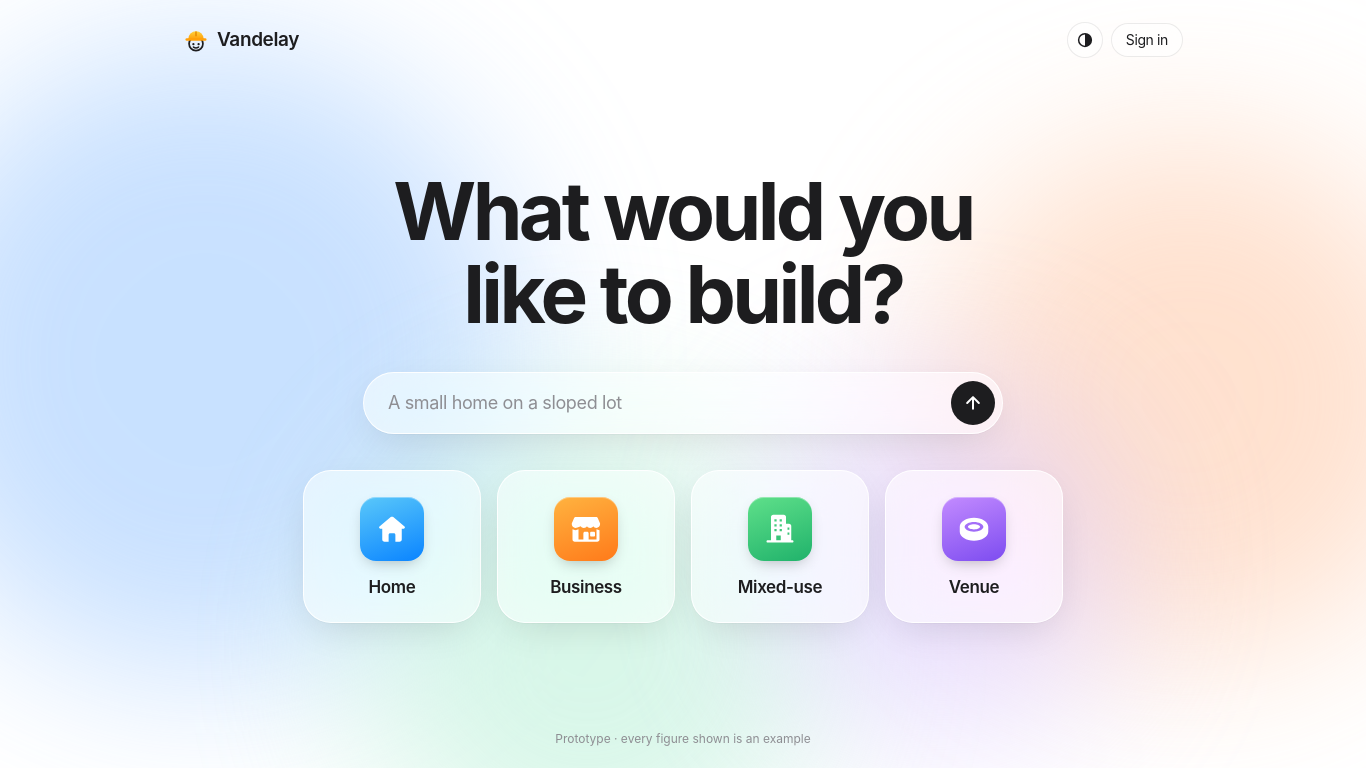
Scenario: workspace › collapses and expands a widget
The image size is (1366, 768).
Click the button "Business" at (586, 547), box [497,470,675,623]
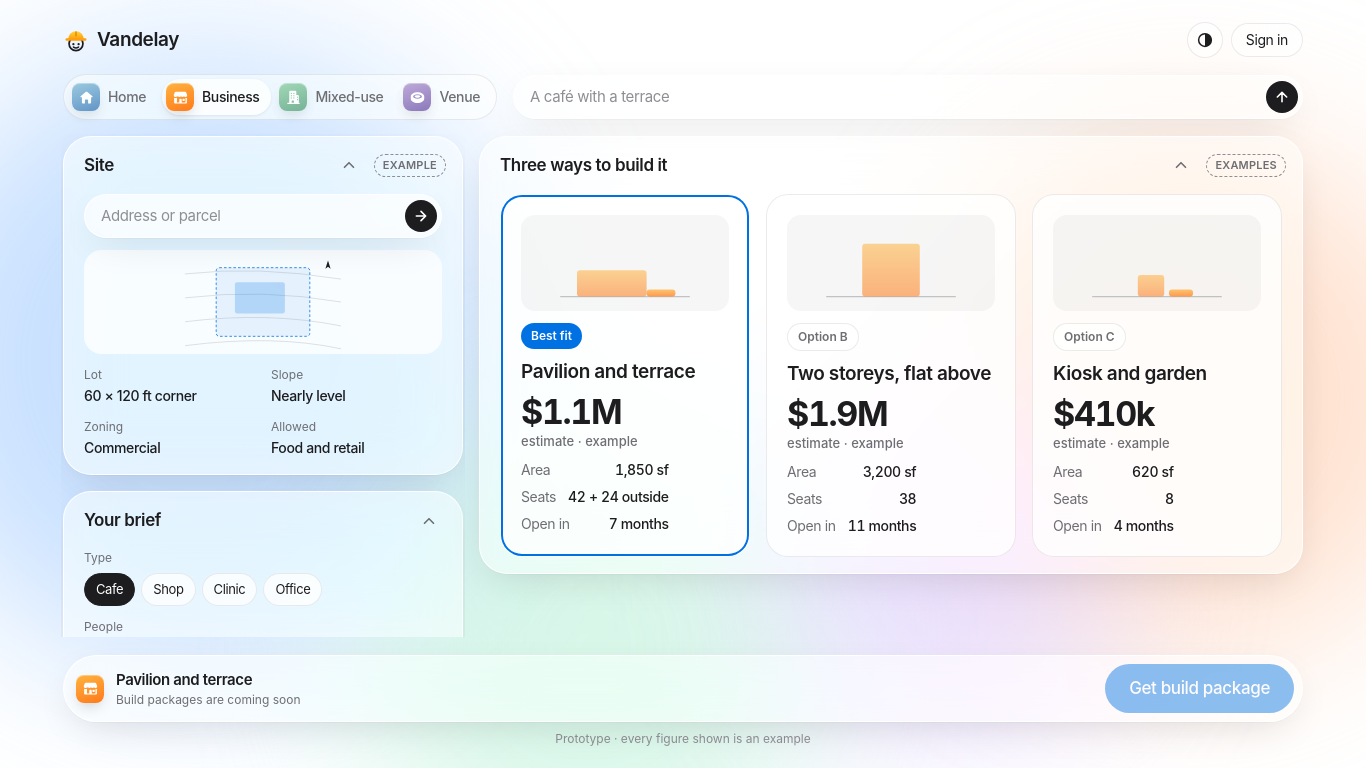
Click the button "Your brief" at (123, 520), box [72,500,446,541]
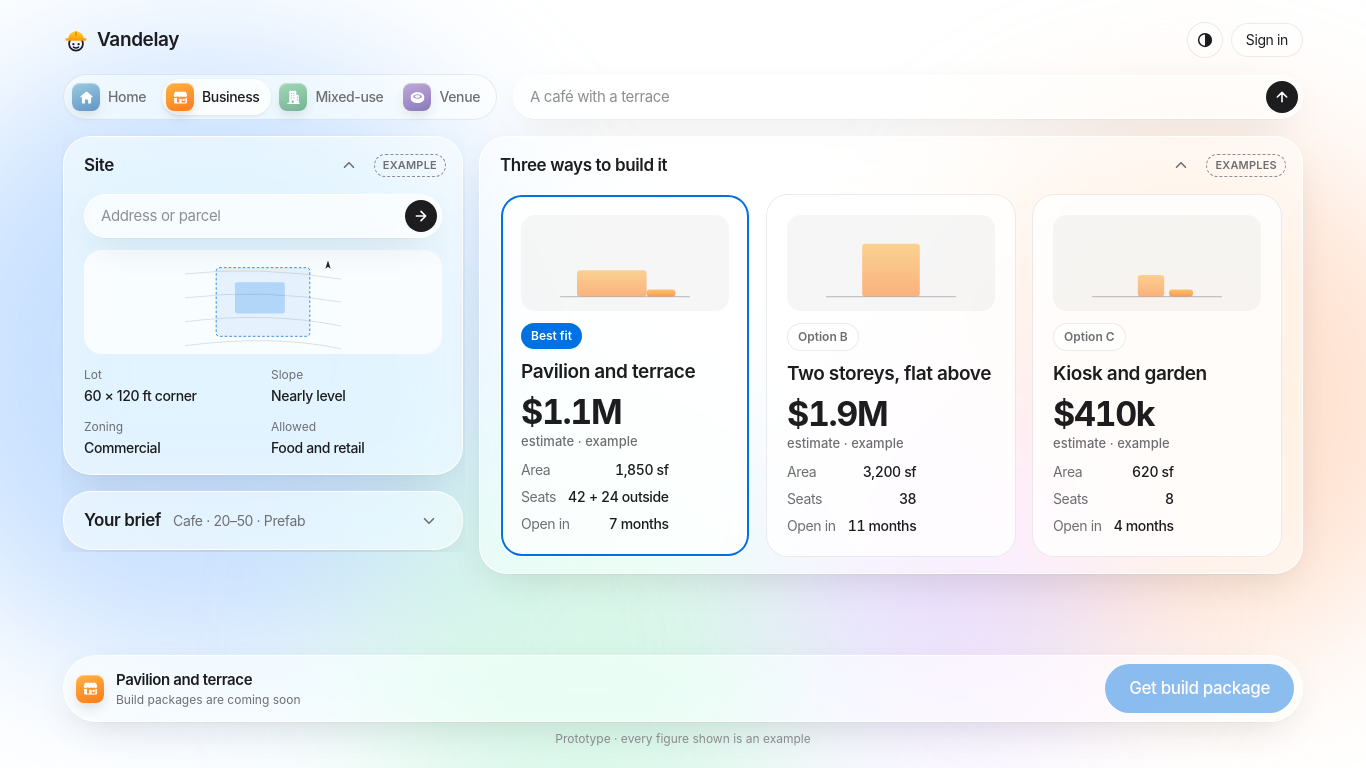
Now the button "Your brief Cafe · 20–50 · Prefab" is collapsed, box [72,500,446,541]
